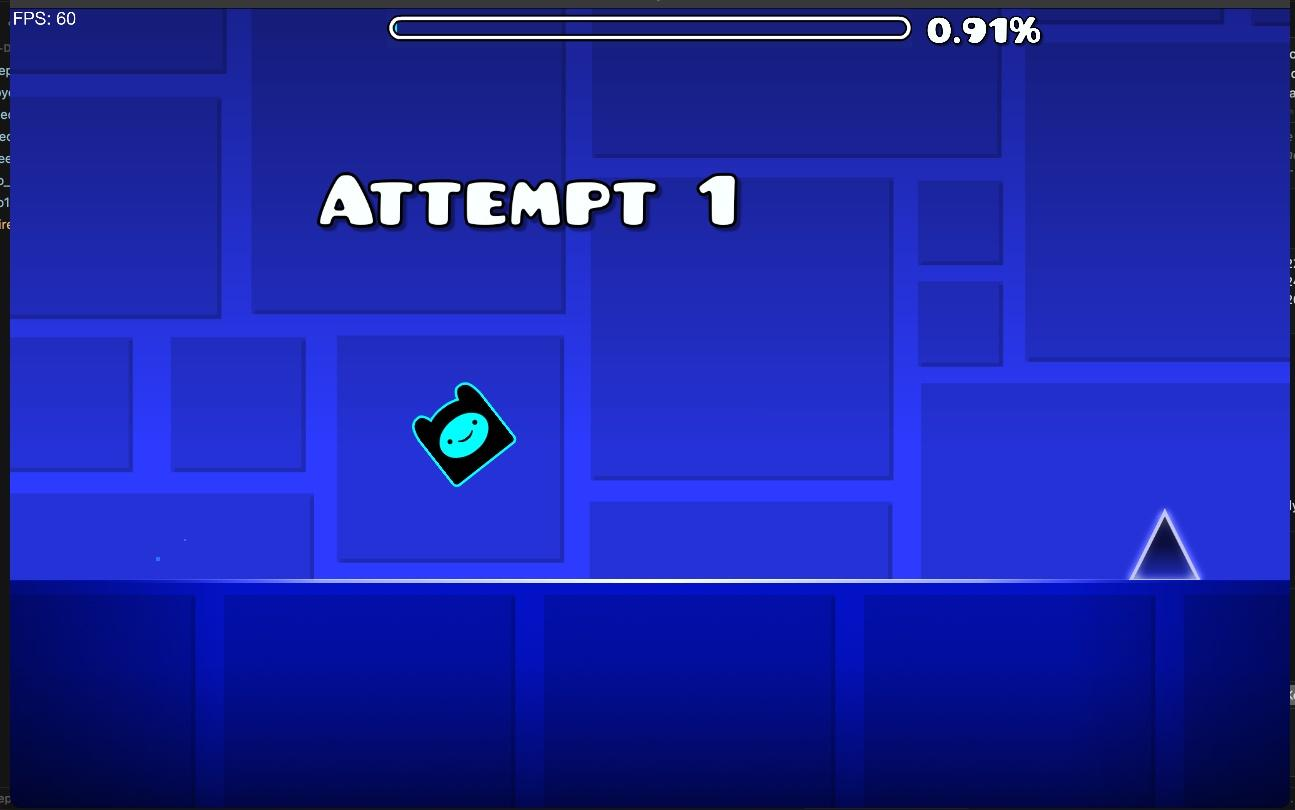block: (10, 581, 1288, 810)
player: (412, 383, 514, 486)
spike: (1130, 510, 1199, 579)
